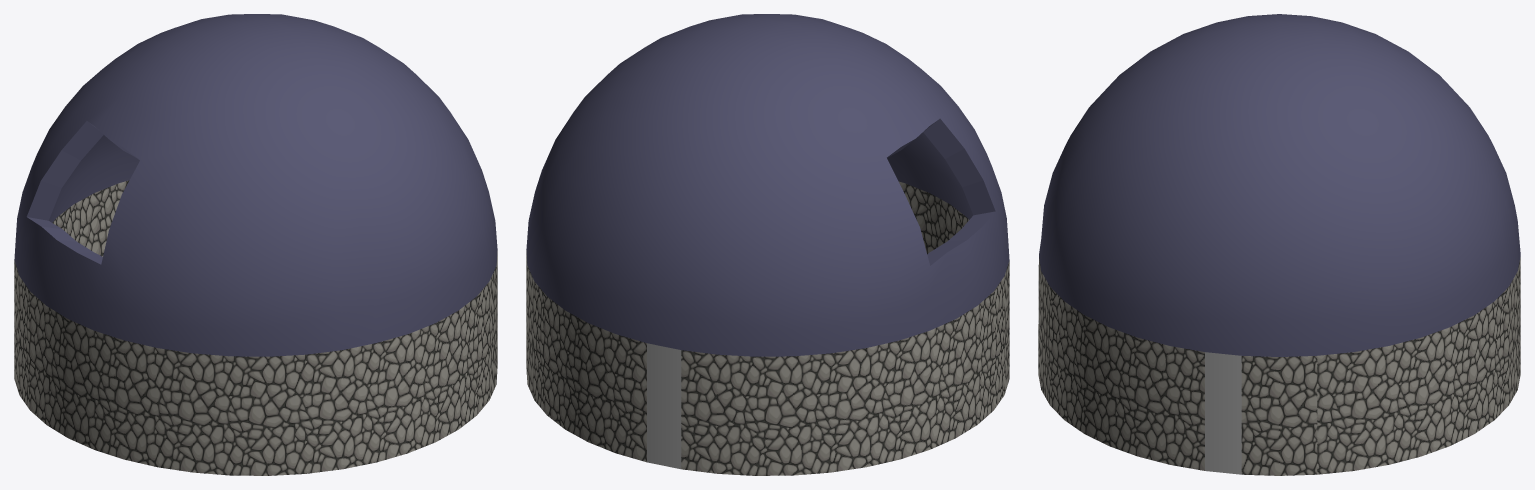
The model's file is observatoryCollider.fbx.
The picture shows the model from 3 angles, left to right: view 1: azimuth 30°, elevation 25°; view 2: azimuth 150°, elevation 25°; view 3: azimuth 270°, elevation 25°; orthographic projection.
Visible parts, largest first — view 1: pCylinder4; view 2: pCylinder4; view 3: pCylinder4.
Part boxes in pixels (bbox=[...]): pCylinder4: bbox=[14, 14, 497, 475]; pCylinder4: bbox=[526, 14, 1009, 475]; pCylinder4: bbox=[1038, 14, 1520, 475].
Size of the model in its own units: 0.2045 by 0.1578 by 0.2045.
